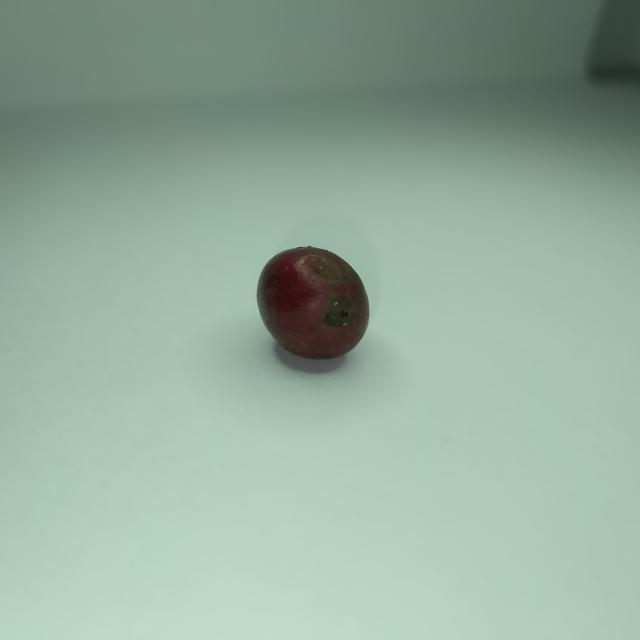Infectado: (257, 246, 368, 360)
